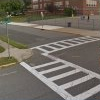crosswalk: (30, 58, 100, 100), (34, 35, 99, 54)
